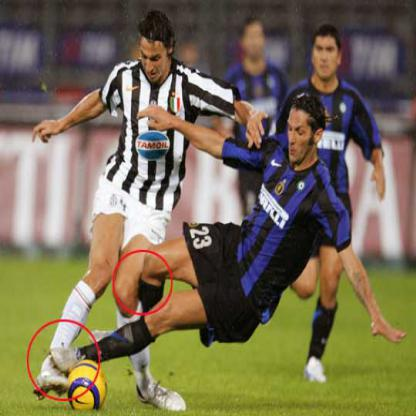Fall_Down: (51, 94, 409, 381)
